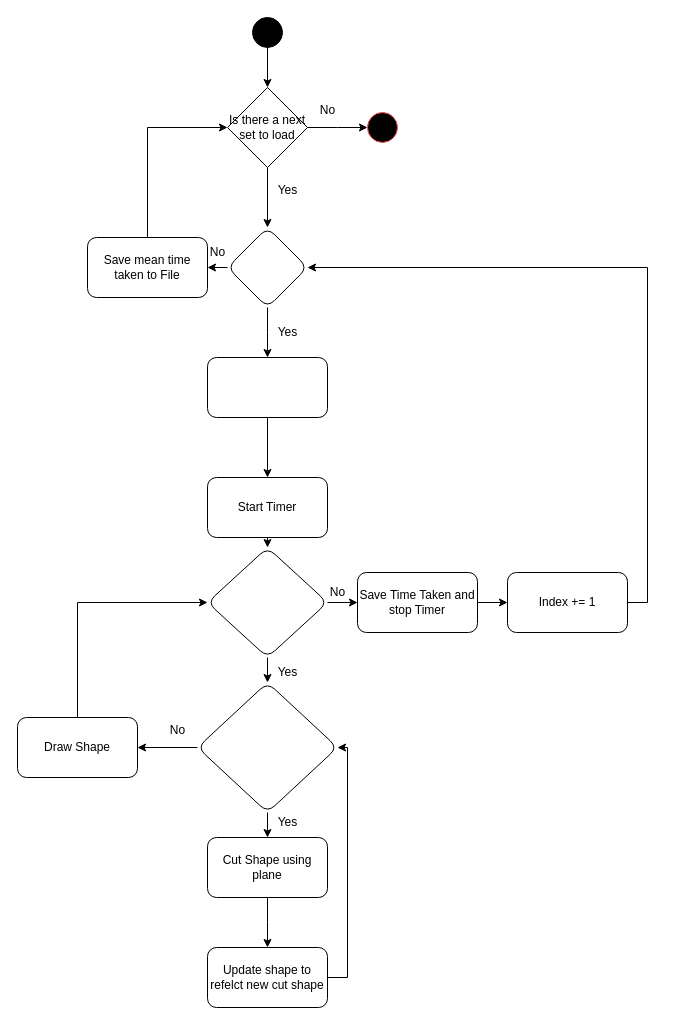
Image size: 673x1025. Some labels were removed from this diagram. The shapes that lost their labels are listed below. From the top down, each one's centre as x and y in pixels, then its label:
(x=267, y=267): Is Index less than 100
(x=267, y=387): Load Next Generated Points from File
(x=267, y=602): Is there a point that has not been cut
(x=267, y=747): Is there a point that has not been compared to current point
